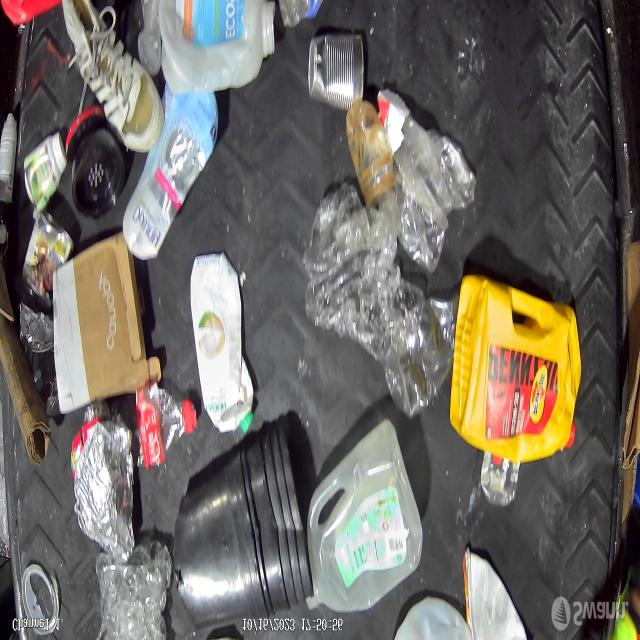can: (75, 417, 136, 564), (21, 208, 74, 310), (16, 301, 62, 418), (308, 35, 364, 111)
milk_jug: (305, 416, 426, 614)
non_white_jug: (449, 272, 582, 466), (122, 86, 220, 265), (190, 256, 255, 435), (158, 0, 276, 97)
plastic_bottle: (346, 91, 478, 278), (308, 192, 426, 366), (384, 295, 461, 422), (97, 543, 173, 640), (133, 383, 198, 468)
